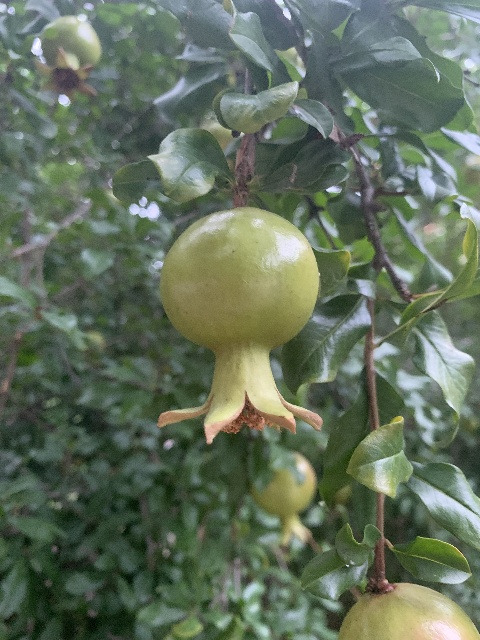mid-growth: (156, 205, 323, 444), (249, 450, 321, 550), (33, 15, 102, 103)
